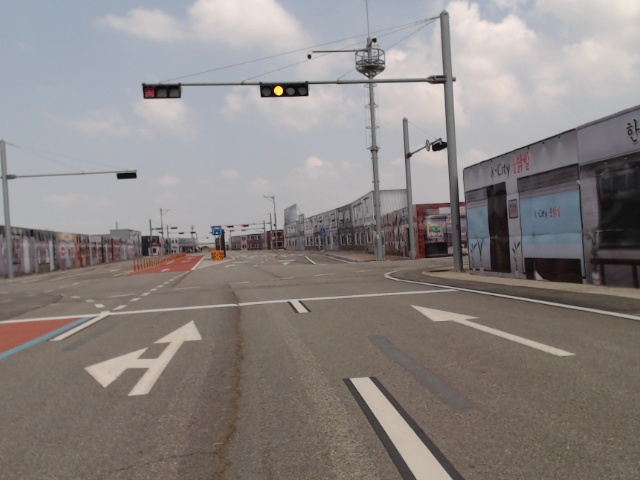orange_4: (261, 82, 310, 98)
